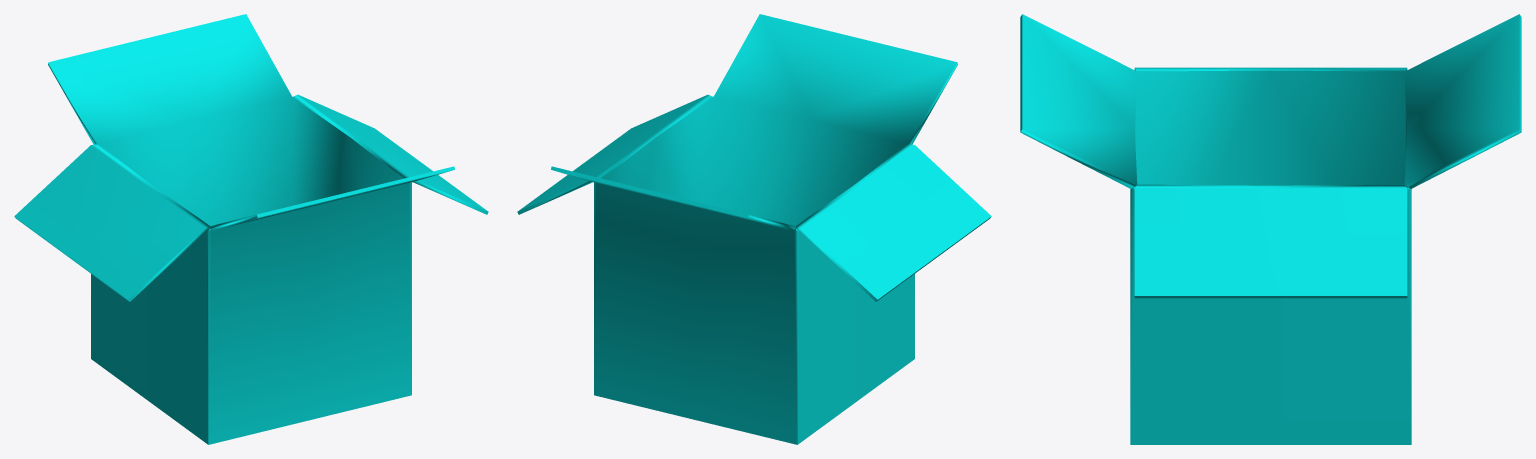
3 renders of one model, left to right at view 1: azimuth 30°, elevation 25°; view 2: azimuth 150°, elevation 25°; view 3: azimuth 270°, elevation 25°, orthographic. The views are drawn at different scales.
Visible parts, largest first — view 1: SM_box_2; view 2: SM_box_2; view 3: SM_box_2.
Part boxes in pixels (x1,y1,x2,y2): SM_box_2: (14, 14, 488, 444); SM_box_2: (517, 14, 991, 444); SM_box_2: (1020, 14, 1521, 444).
Size of the model in its own units: 42.36 by 29.51 by 42.7.
